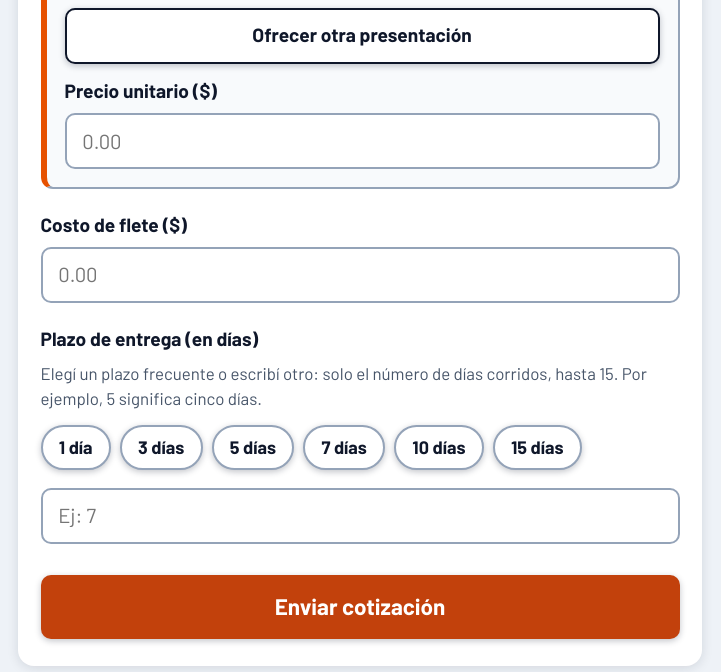
Test: CotizarConEnlacePage › no envía si faltan datos y marca los errores
(page scrolled)
Click the button "Enviar cotización" at {"x": 360, "y": 607}, box left=40, top=575, right=680, bottom=639
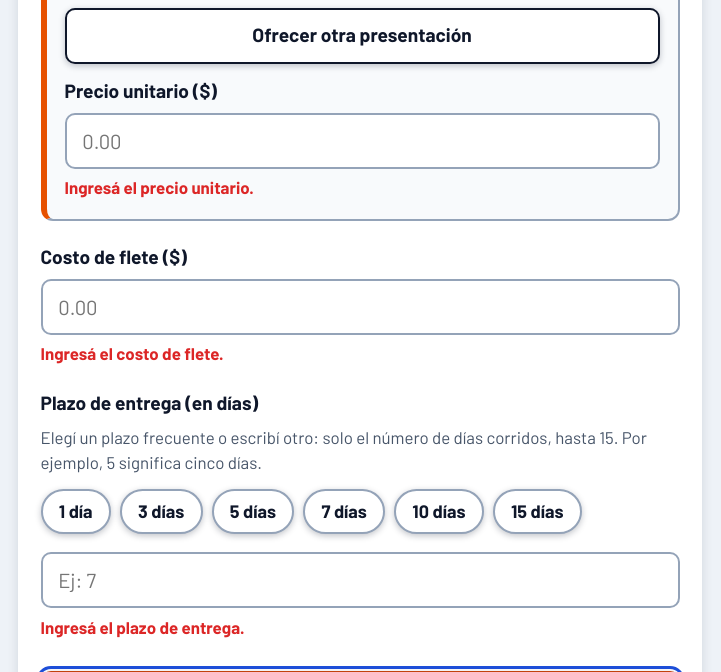
Expected: the message "Ingresá el precio unitario." is shown, left=64, top=178, right=254, bottom=198
